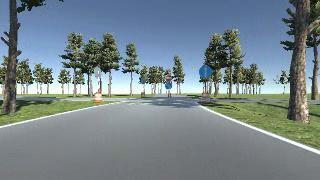go_ahead: (199, 65, 212, 78)
